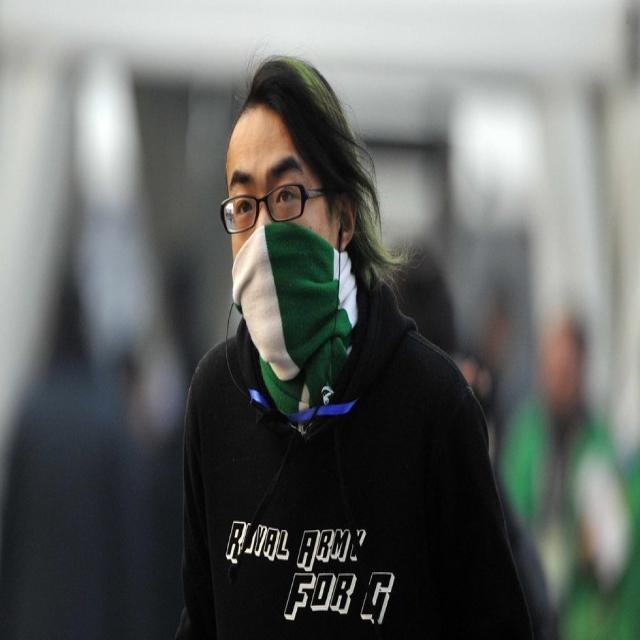nomask: (225, 124, 333, 379)
